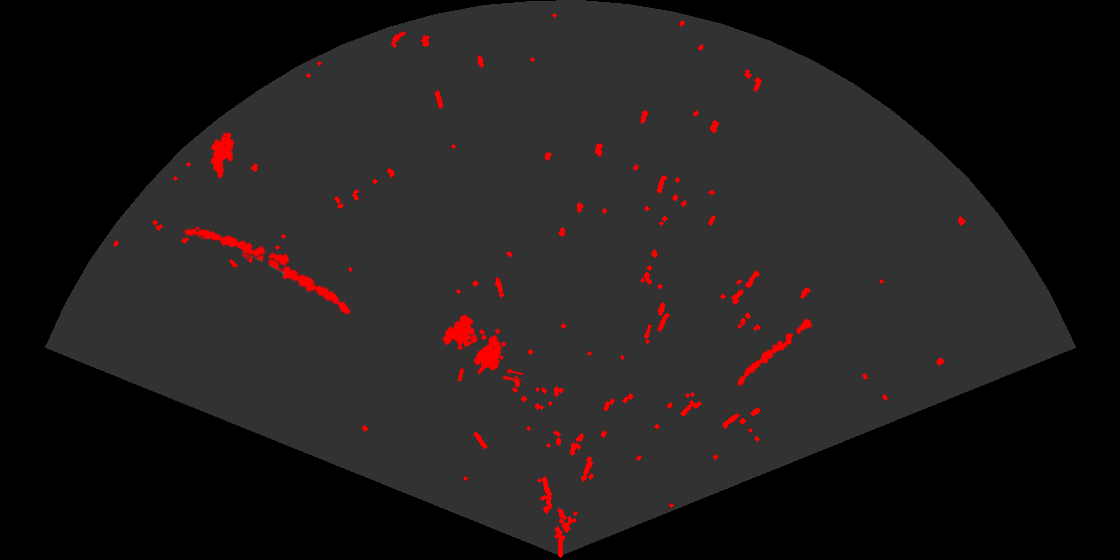AUV: (209, 131, 236, 180)
cage: (440, 313, 523, 381)
chain: (240, 242, 352, 316), (736, 317, 814, 388), (182, 226, 292, 268)
